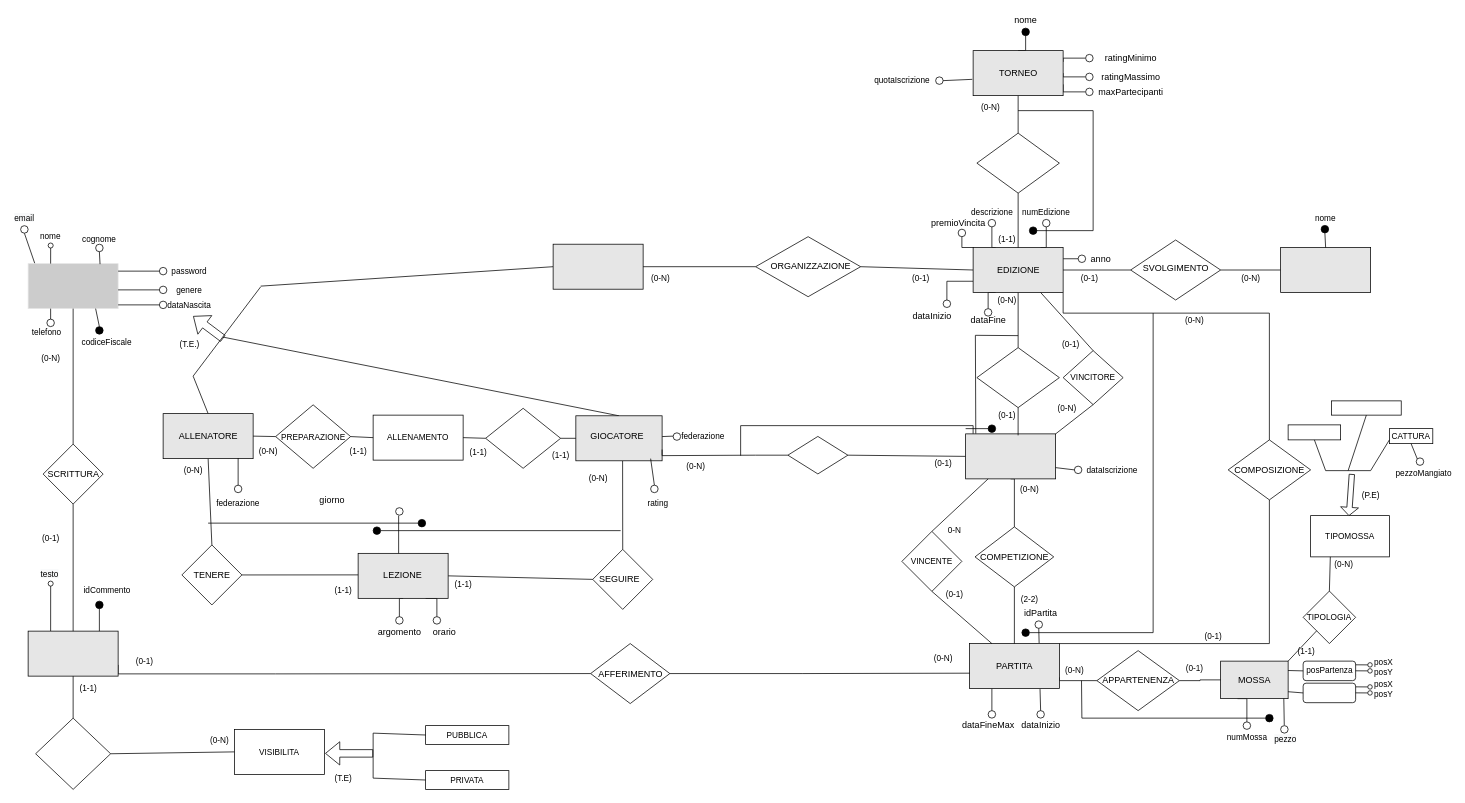
Image size: 1465x803. Some labels were removed from this diagram. Here are the shapes that lost their labels. From the top down, the centre of each, then its label:
point (1017, 162): RIFERIMENTO
point (72, 286): PERSONA
point (597, 266): ORGANIZZATORE
point (1325, 269): LUOGO
point (1017, 377): PARTECIPAZIONE
point (1366, 407): SPOSTAMENTO
point (523, 438): ESERCITAZIONE
point (1314, 432): ARROCCO
point (817, 455): ALLUSIONE
point (1010, 456): ISCRITTO
point (72, 653): COMMENTO
point (1329, 692): posArrivo
point (73, 753): RIGUARDARE
